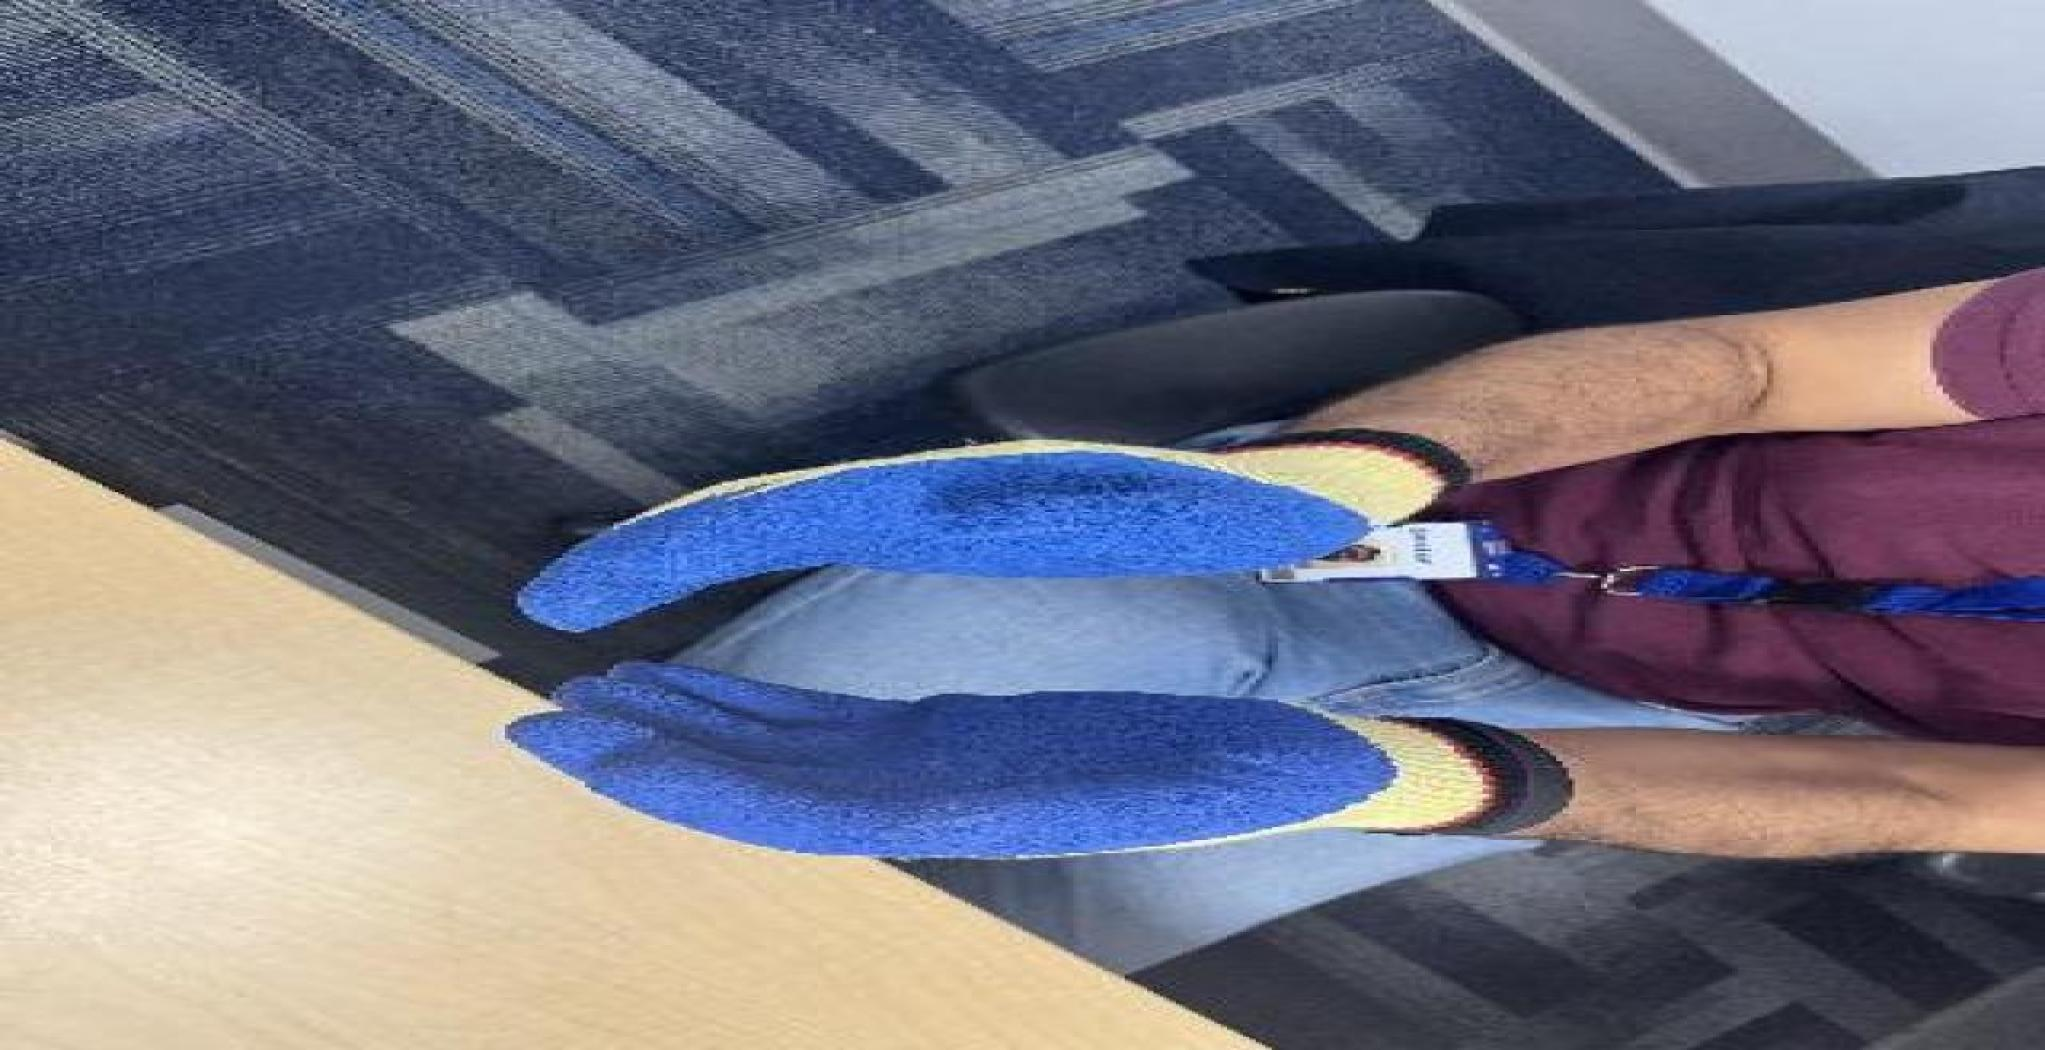gloved: (441, 660, 1501, 865), (451, 403, 1492, 583)
